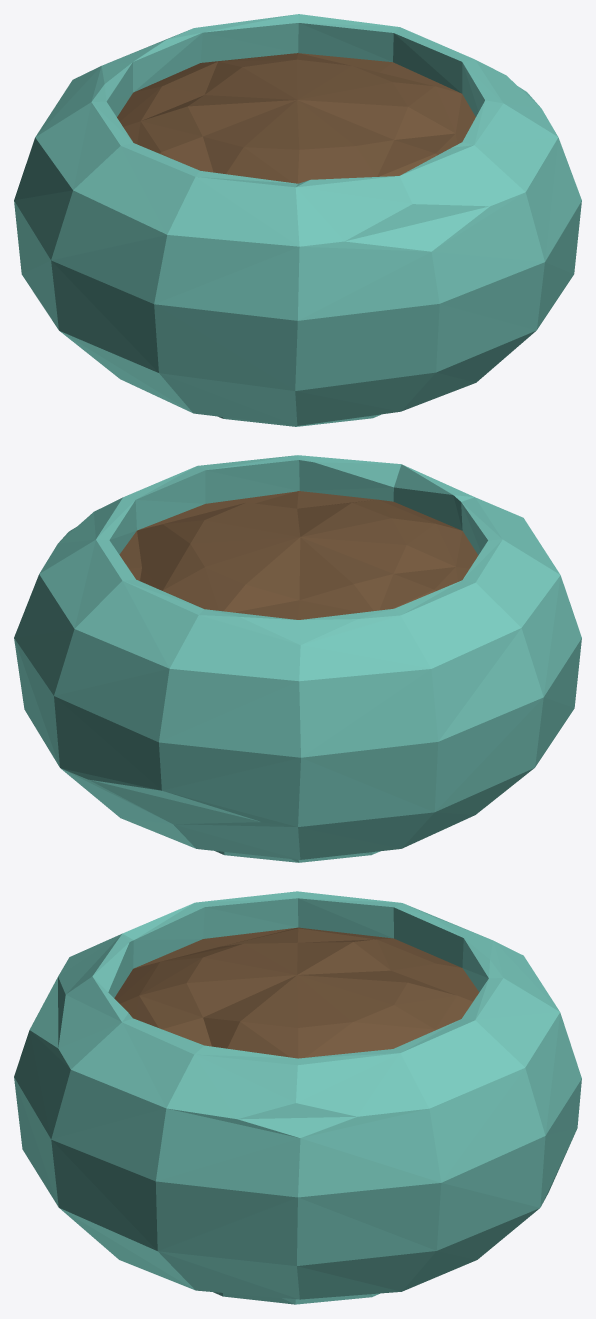
File: SFHW_Vassel_010.fbx
3 renders of one model, top to bottom at view 1: azimuth 30°, elevation 25°; view 2: azimuth 150°, elevation 25°; view 3: azimuth 270°, elevation 25°, orthographic.
Parts seen in each view (by area): view 1: SFHW_Vassel_010; view 2: SFHW_Vassel_010; view 3: SFHW_Vassel_010.
Boxes of the visible parts, x1=… form: SFHW_Vassel_010: x1=14, y1=14, x2=581, y2=426; SFHW_Vassel_010: x1=14, y1=455, x2=581, y2=862; SFHW_Vassel_010: x1=14, y1=891, x2=581, y2=1304.
Size of the model in its own units: 39.65 by 20.51 by 39.47.
